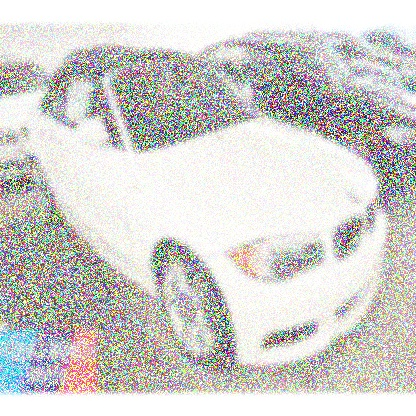Vehicle: (23, 53, 392, 372)
